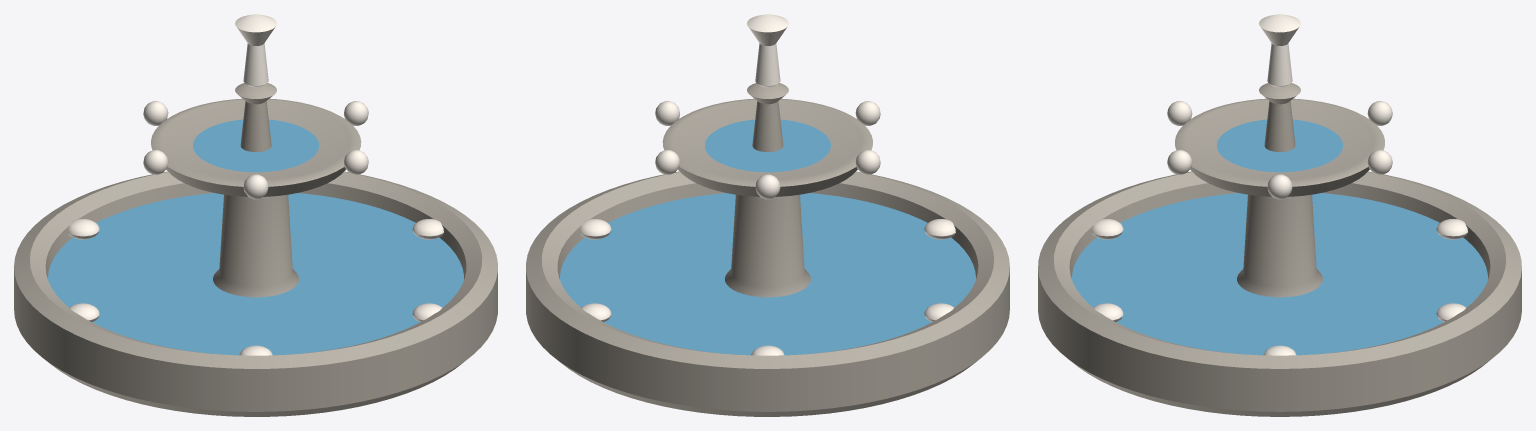
File: fountain.glb
The picture shows the model from 3 angles, left to right: view 1: azimuth 30°, elevation 25°; view 2: azimuth 150°, elevation 25°; view 3: azimuth 270°, elevation 25°; orthographic projection.
Parts seen in each view (by area): view 1: fountain, water; view 2: fountain, water; view 3: fountain, water.
Boxes of the visible parts, <box> form: fountain: <box>14,83,497,416</box>; water: <box>68,14,443,355</box>; fountain: <box>526,83,1009,416</box>; water: <box>580,14,955,355</box>; fountain: <box>1038,83,1521,416</box>; water: <box>1092,14,1467,355</box>.
Size of the model in its own units: 4.6 by 3.2 by 4.6.
Materials: 1 (1 with a texture image).
